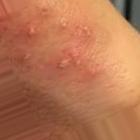Ants: (68, 45, 83, 65), (55, 16, 72, 31), (76, 23, 91, 40), (57, 57, 71, 68), (16, 52, 31, 62), (26, 24, 36, 37)
